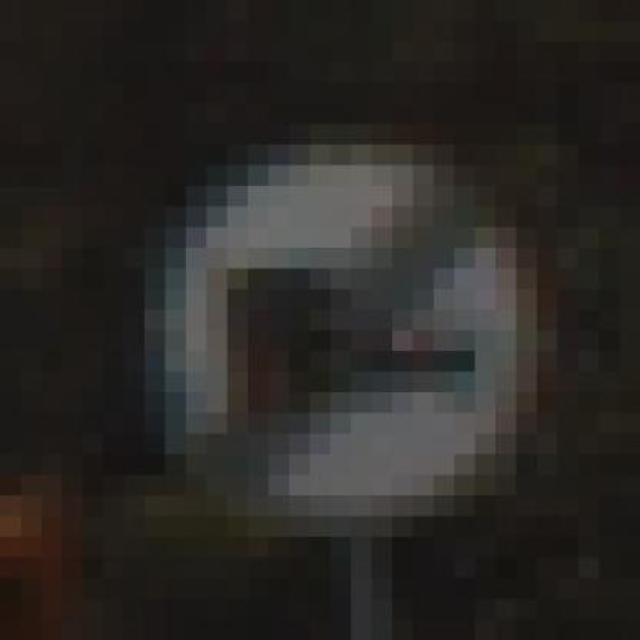Overtaking by trucks is prohibited: (144, 83, 558, 537)
